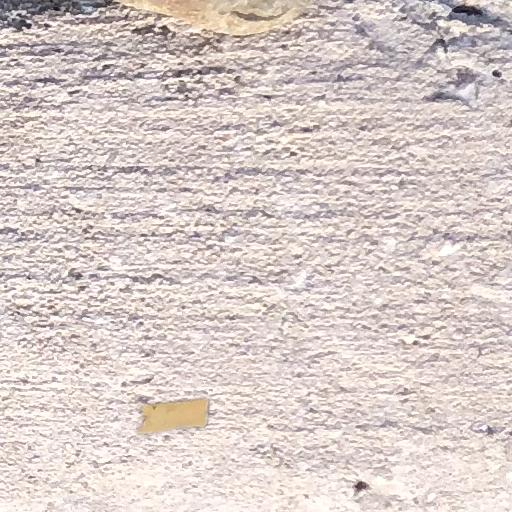smoke: (140, 399, 207, 433)
